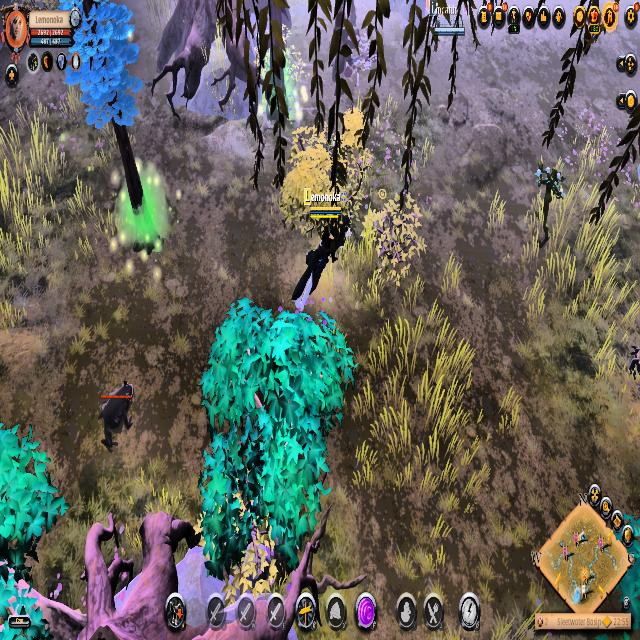wood tier 3: (198, 295, 356, 582)
